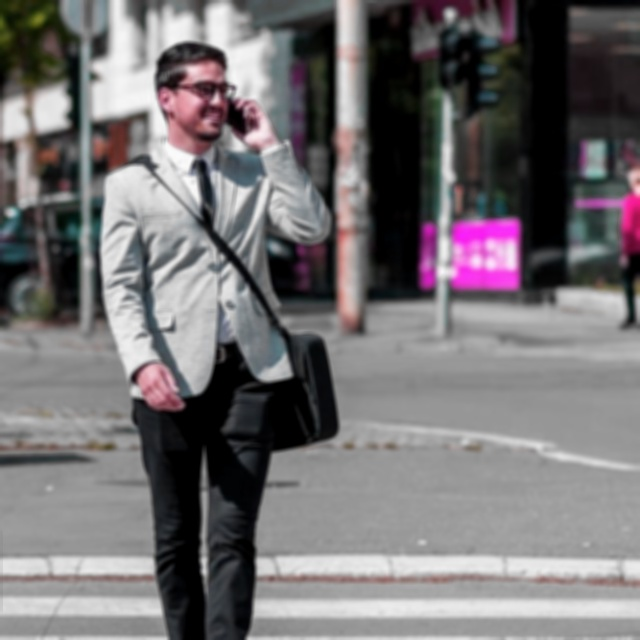Sin_Casco_Mascarrilla: (154, 40, 234, 143)
Sin_Chaleco: (106, 145, 274, 363)
